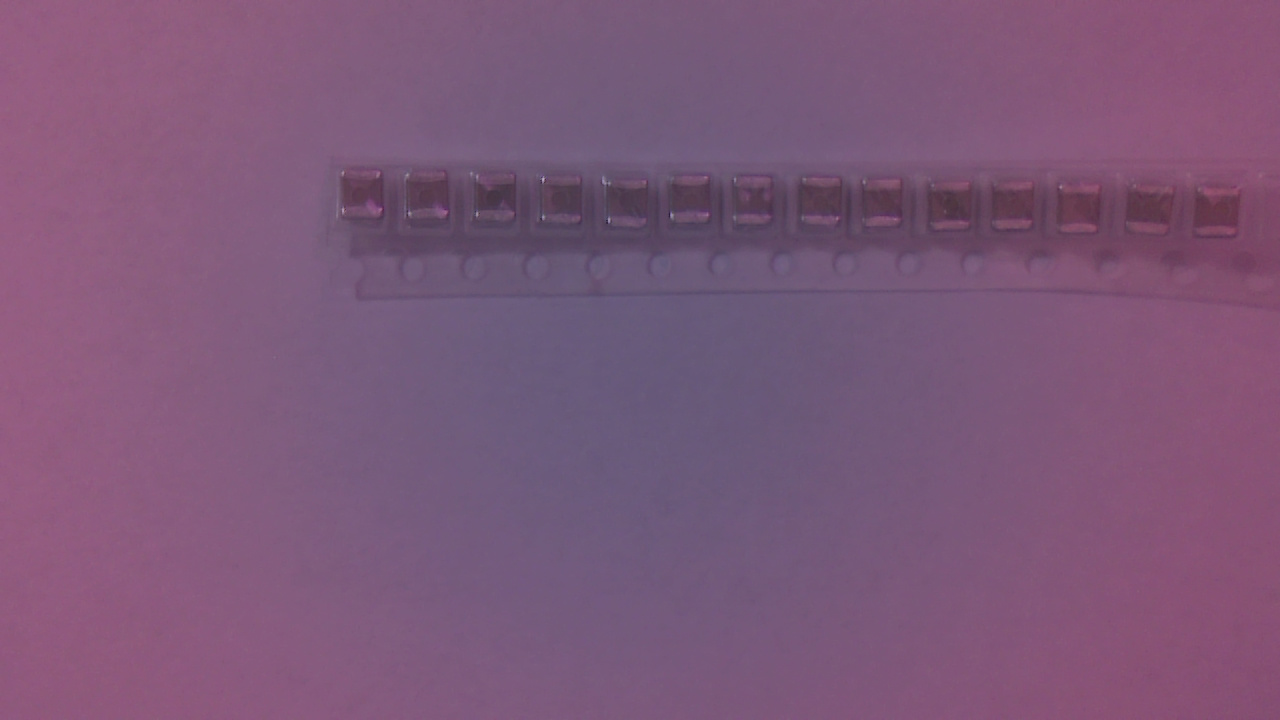Condensator: (1197, 184, 1248, 247), (931, 180, 981, 239), (1059, 184, 1109, 242), (1130, 184, 1181, 240), (345, 168, 391, 226), (607, 181, 656, 235), (410, 173, 457, 228), (544, 175, 591, 230), (478, 173, 524, 229), (735, 176, 779, 233), (805, 177, 849, 234), (999, 182, 1042, 240), (674, 175, 718, 231), (868, 180, 912, 236)
